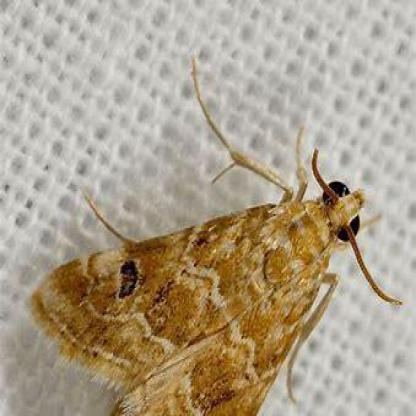Hellula undalis: (20, 45, 407, 400)
